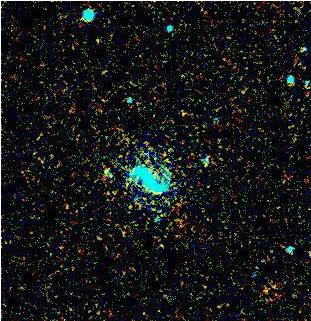star: (290, 69, 311, 99)
